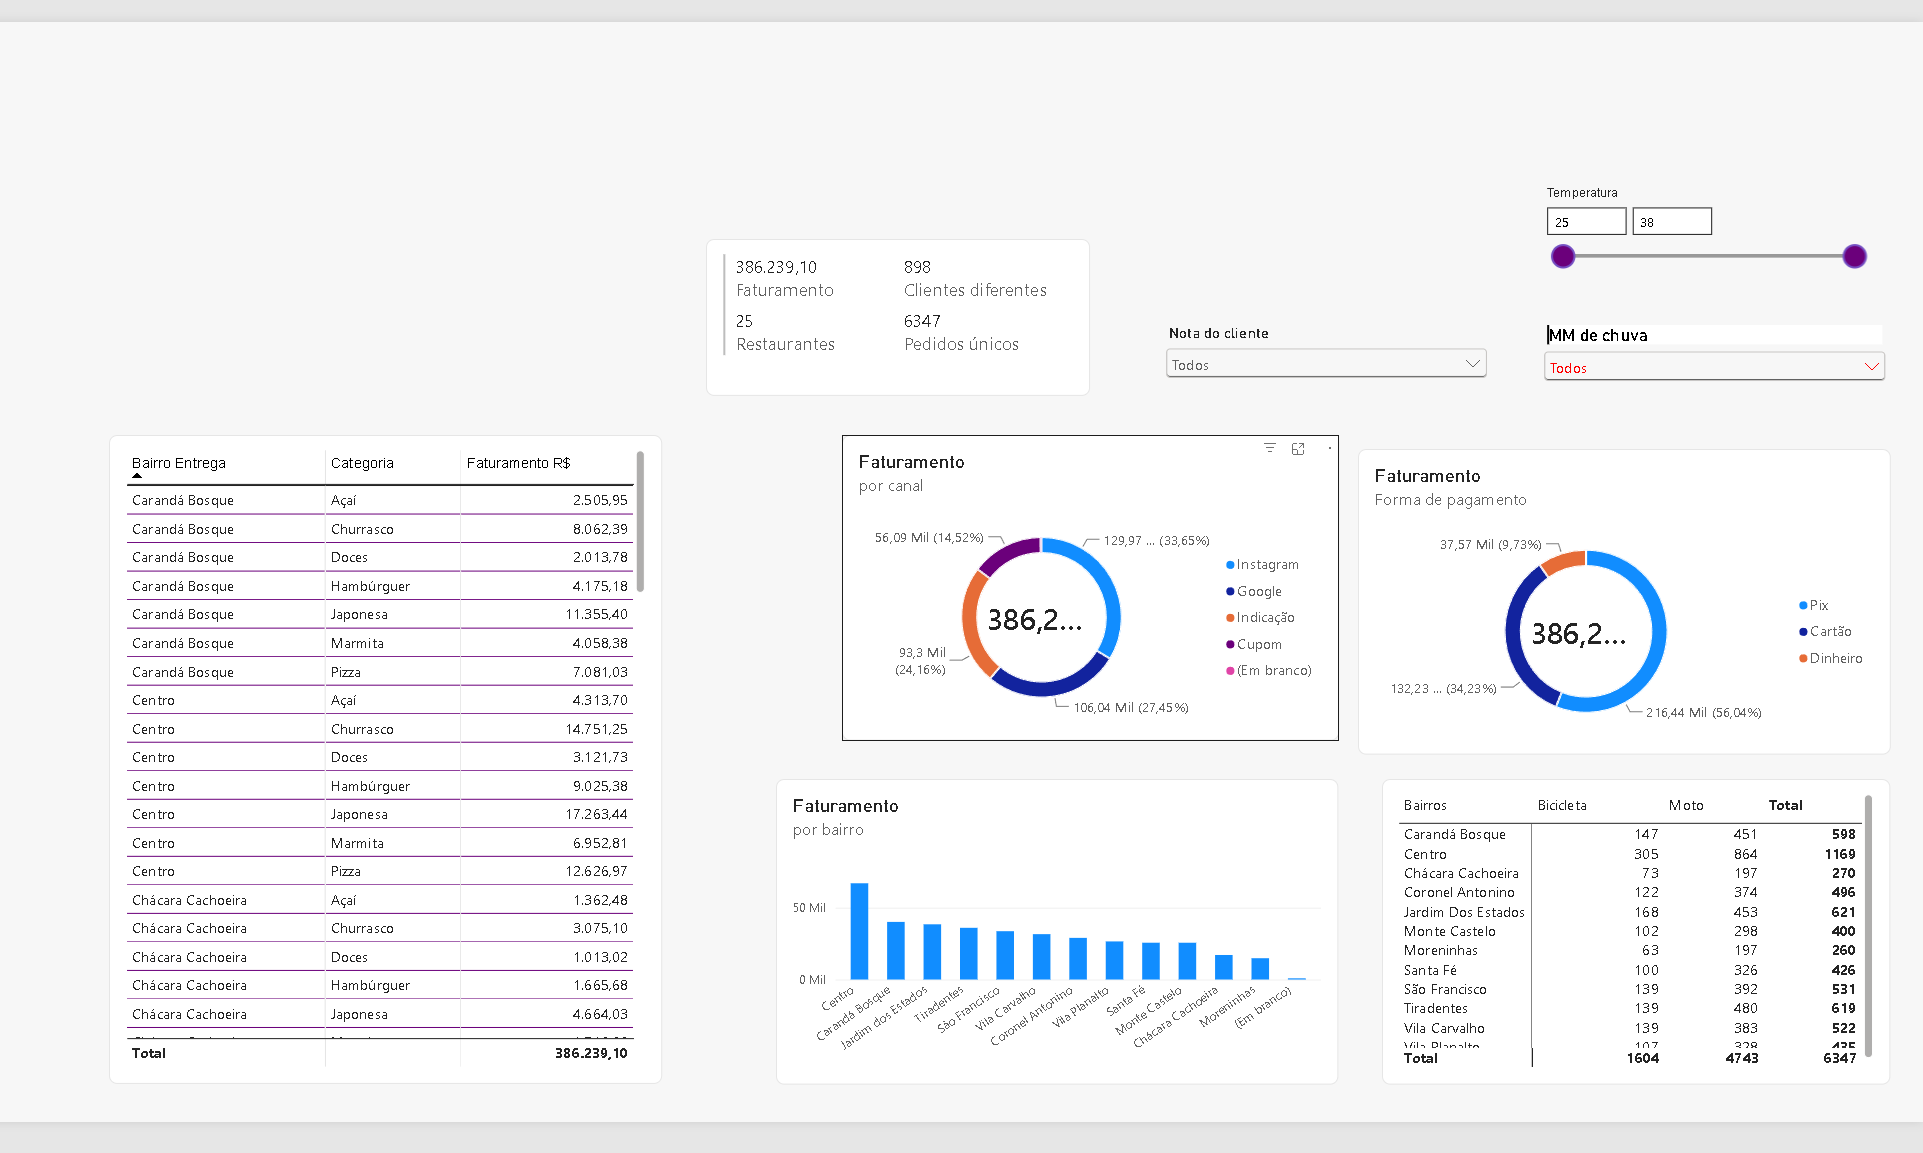

The dashboard page shown, as its layout file describes it:
{"tool":"powerbi","page":{"name":"Página 1","canvas":[1920,1080],"ordinal":0},"visuals":[{"type":"multiRowCard","fields":{"Values":["clientes.Faturamento","pedidos.id_cliente","pedidos.id_restaurante","pedidos.id_pedido"]},"box":[725.6,212.9,376.8,153.9],"z":0},{"type":"donutChart","title":"Faturamento","fields":{"Category":["pedidos.forma_pagamento"],"Y":["clientes.Faturamento"]},"box":[1365.3,418.8,522.7,299.8],"z":1000},{"type":"clusteredColumnChart","fields":{"Category":["clientes.bairro"],"Y":["clientes.Faturamento"]},"box":[794.6,742.6,551.7,299.8],"z":2000},{"type":"pivotTable","fields":{"Columns":["entregadores.tipo_veiculo"],"Rows":["pedidos.bairro_entrega"],"Values":["Count(pedidos.id_pedido)"]},"box":[1389.3,742.6,498.7,299.8],"z":3000},{"type":"slicer","fields":{"Values":["clima_diario.temp_max"]},"box":[1543.2,159.9,325.8,105.9],"z":4000},{"type":"slicer","fields":{"Values":["clima_diario.chuva_mm"]},"box":[1543.2,297.8,344.8,96],"z":5000},{"type":"donutChart","fields":{"Category":["clientes.canal_aquisicao"],"Y":["clientes.Faturamento"]},"box":[858.6,405.8,487.7,299.8],"z":6000},{"type":"tableEx","fields":{"Values":["pedidos.bairro_entrega","restaurantes.categoria","clientes.Faturamento"]},"box":[138.9,405.8,542.7,636.7],"z":7000},{"type":"slicer","fields":{"Values":["pedidos.nota_cliente"]},"box":[1172.4,297.8,324.8,96],"z":8000}]}

Visuals, with their boxes on the page's 1920x1080 design canvas (x1, y1, x2, y2). These are canvas units, not pixel positions in the 1923x1153 screenshot, which may show the page scaled, cropped or inside an application window:
multiRowCard - clientes.Faturamento x pedidos.id_cliente: (left=726, top=213, right=1102, bottom=367)
"Faturamento" donutChart: (left=1365, top=419, right=1888, bottom=719)
clusteredColumnChart - clientes.bairro x clientes.Faturamento: (left=795, top=743, right=1346, bottom=1042)
pivotTable - entregadores.tipo_veiculo x pedidos.bairro_entrega: (left=1389, top=743, right=1888, bottom=1042)
slicer - clima_diario.temp_max: (left=1543, top=160, right=1869, bottom=266)
slicer - clima_diario.chuva_mm: (left=1543, top=298, right=1888, bottom=394)
donutChart - clientes.canal_aquisicao x clientes.Faturamento: (left=859, top=406, right=1346, bottom=706)
tableEx - pedidos.bairro_entrega x restaurantes.categoria: (left=139, top=406, right=682, bottom=1042)
slicer - pedidos.nota_cliente: (left=1172, top=298, right=1497, bottom=394)
